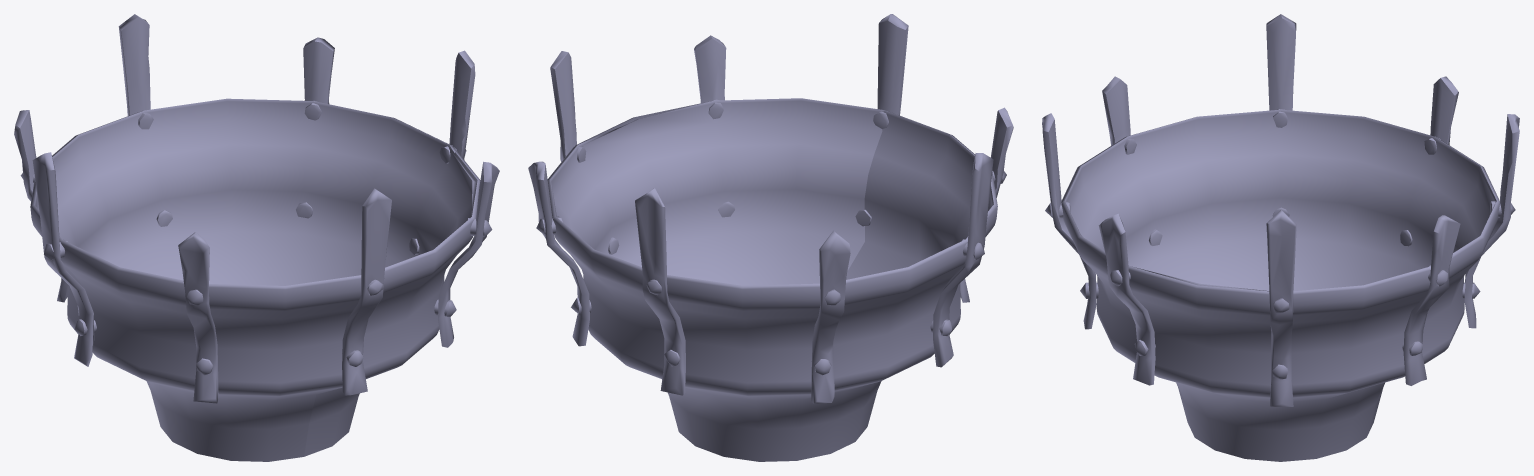
Rendered from Brazier_01.fbx.
The picture shows the model from 3 angles, left to right: view 1: azimuth 30°, elevation 25°; view 2: azimuth 150°, elevation 25°; view 3: azimuth 270°, elevation 25°; orthographic projection. The views are drawn at different scales.
Parts seen in each view (by area): view 1: Brazier_01_LOD0; view 2: Brazier_01_LOD0; view 3: Brazier_01_LOD0.
Boxes of the visible parts, left/top/right/bottom form: Brazier_01_LOD0: left=14, top=14, right=499, bottom=461; Brazier_01_LOD0: left=528, top=14, right=1013, bottom=461; Brazier_01_LOD0: left=1042, top=14, right=1519, bottom=461.
Size of what is drawn, in the model's own units: 110 by 78.09 by 109.
